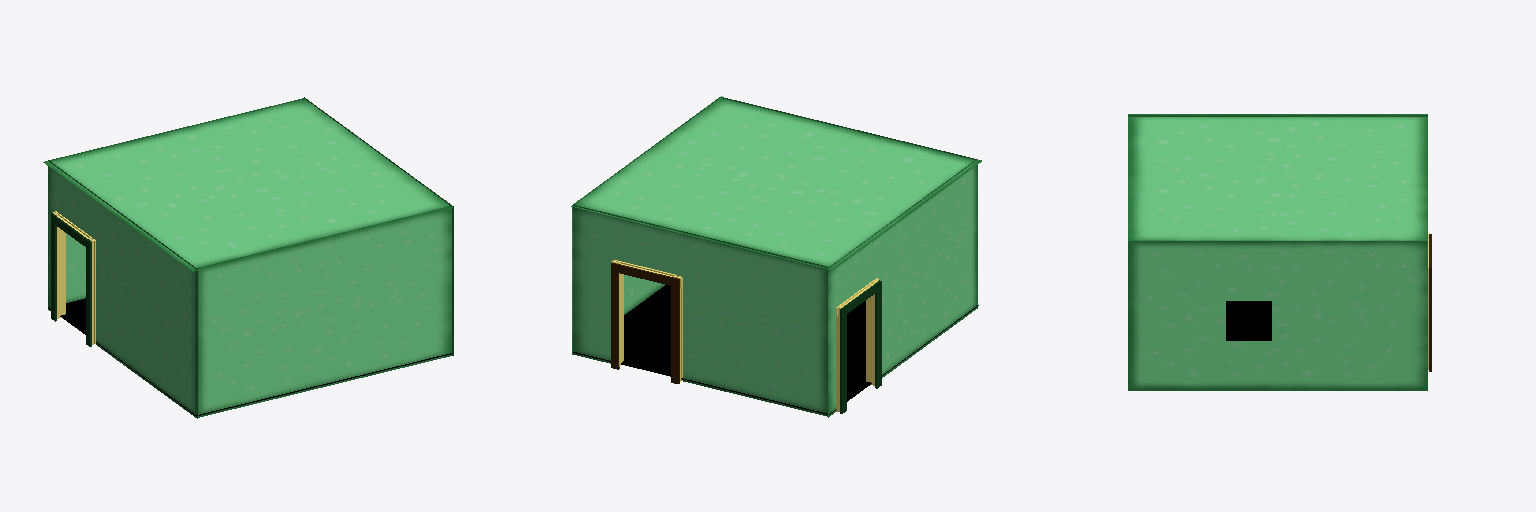
The picture shows the model from 3 angles: view 1: azimuth 30°, elevation 25°; view 2: azimuth 150°, elevation 25°; view 3: azimuth 270°, elevation 25°; orthographic projection.
Parts seen in each view (by area): view 1: cuarto:cuarto:polySurface7756polySurface7767; view 2: cuarto:cuarto:polySurface7756polySurface7767; view 3: cuarto:cuarto:polySurface7756polySurface7767.
Part boxes in pixels (left/top/right/bottom): cuarto:cuarto:polySurface7756polySurface7767: left=43, top=97, right=453, bottom=418; cuarto:cuarto:polySurface7756polySurface7767: left=571, top=96, right=981, bottom=417; cuarto:cuarto:polySurface7756polySurface7767: left=1128, top=114, right=1431, bottom=390.
Bounding box in the file's own units: 9.82 × 5.13 × 9.23.
7 materials, 5 textured.